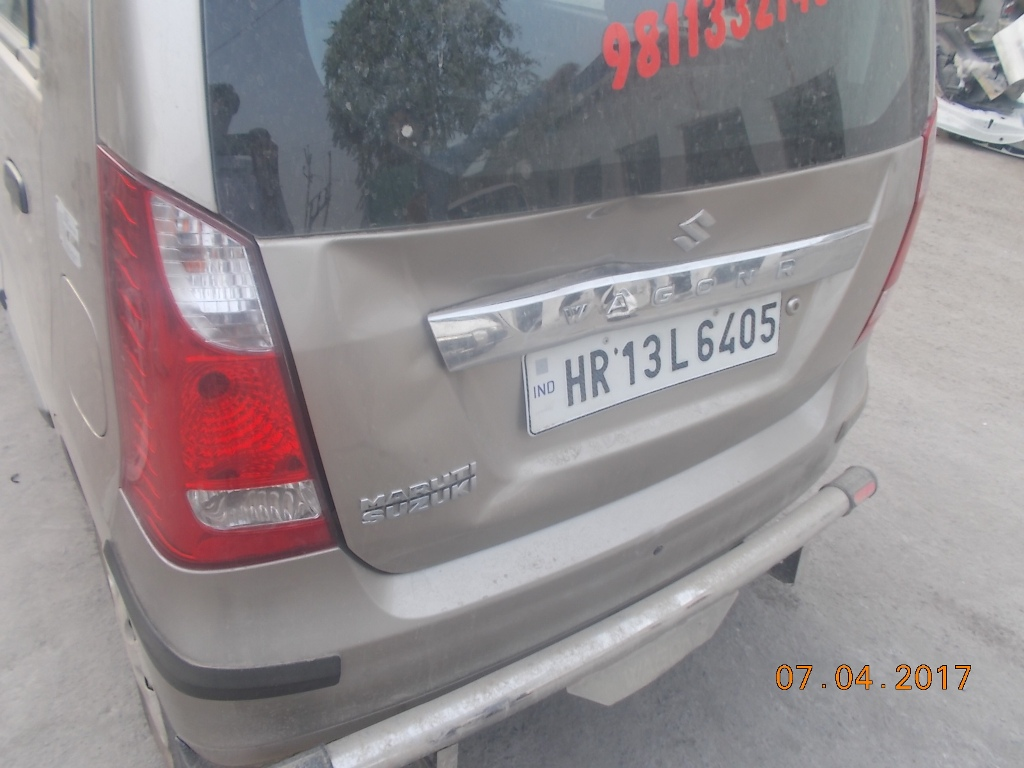Dent: (320, 240, 432, 353)
